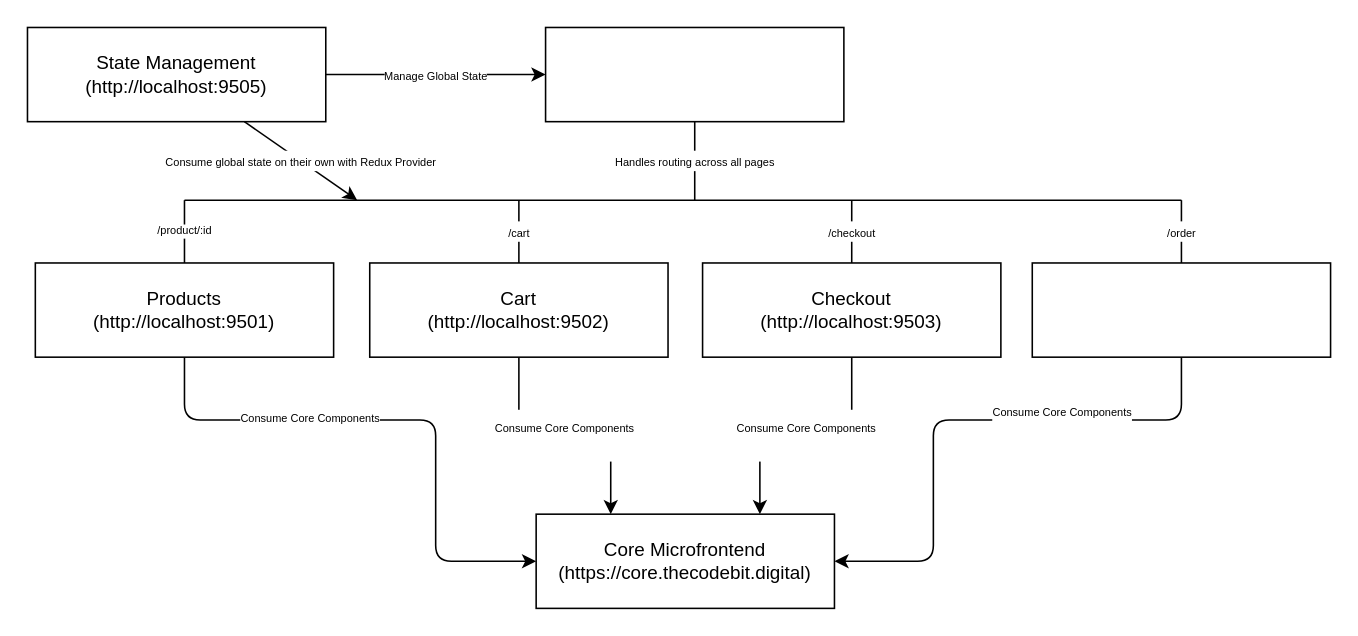
This 1358x636 diagram has some shape labels left out. Here are the shapes that lost their labels. From the top down, the centre of each, then its label:
At pixel 694 74: "App Shell (http://localhost:9500)".
At pixel 1181 309: "Order (http://localhost:9504)".
